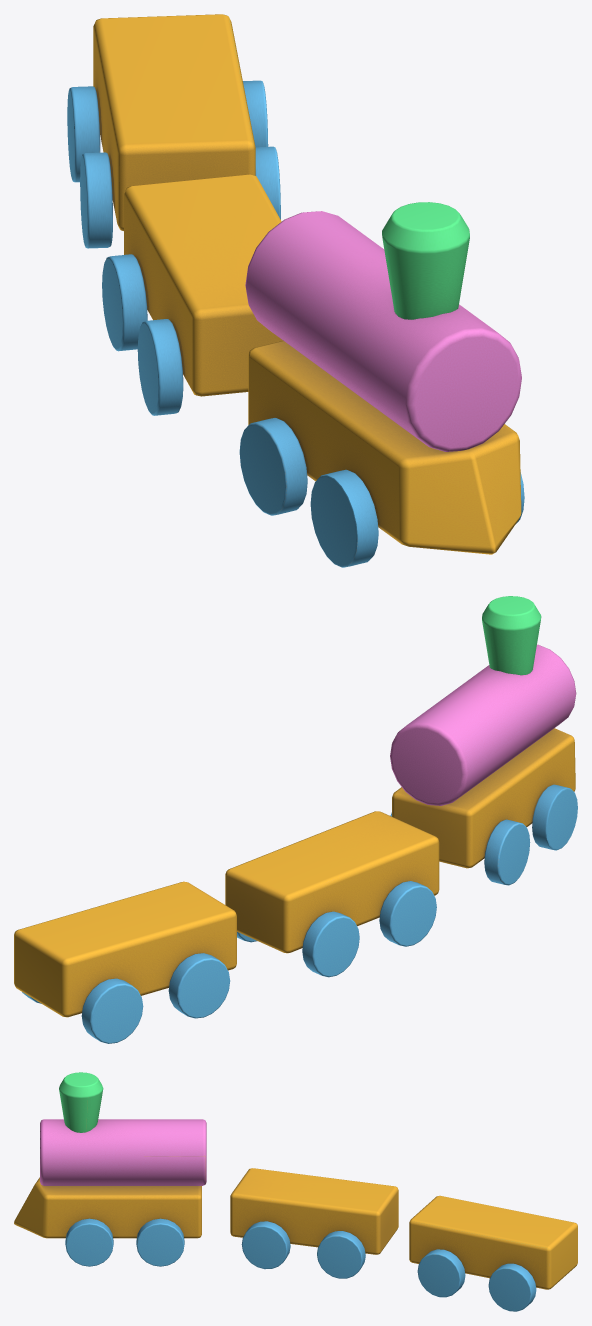
File: train.fbx
The picture shows the model from 3 angles, top to bottom: view 1: azimuth 30°, elevation 25°; view 2: azimuth 150°, elevation 25°; view 3: azimuth 270°, elevation 25°; orthographic projection. The views are drawn at different scales.
Parts seen in each view (by area): view 1: train, train2, train1; view 2: train, train2, train1; view 3: train, train1, train2.
Boxes of the visible parts, bbox=[...] form: train: bbox=[239, 202, 524, 567]; train2: bbox=[67, 14, 280, 248]; train1: bbox=[102, 174, 282, 415]; train: bbox=[390, 596, 577, 885]; train2: bbox=[14, 881, 236, 1043]; train1: bbox=[225, 811, 439, 977]; train: bbox=[14, 1072, 206, 1266]; train1: bbox=[230, 1168, 398, 1278]; train2: bbox=[409, 1195, 577, 1311].
Bounding box in the file's own units: 7.27 × 6.32 × 19.29.
